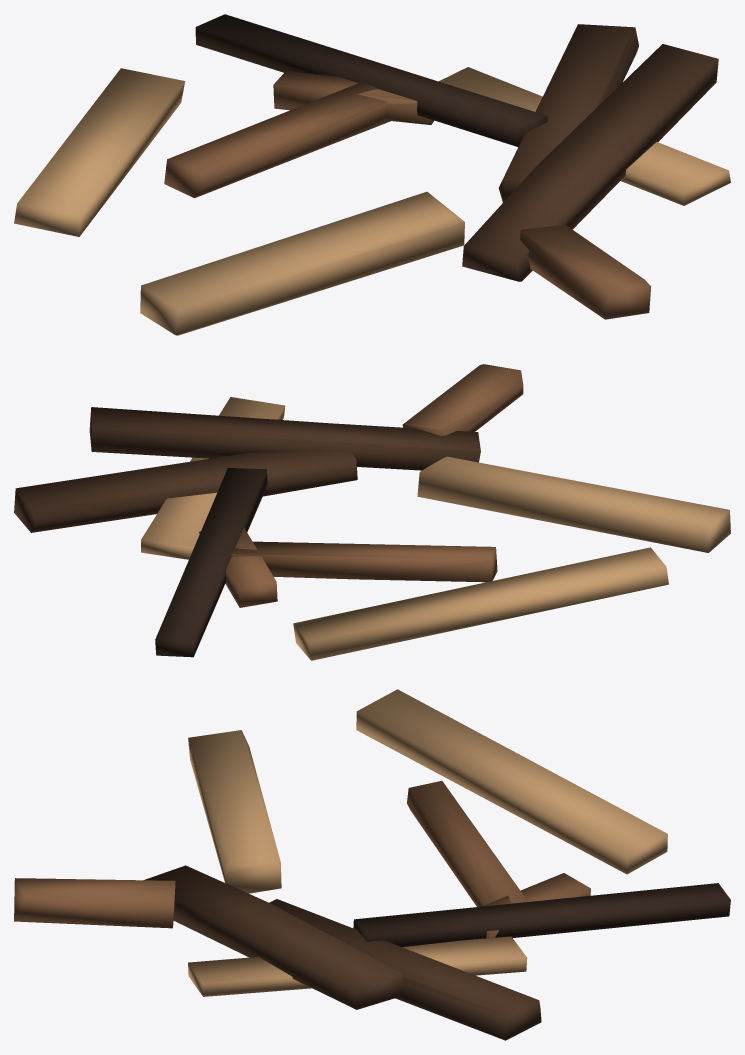
The model's file is ember_gc_wood_chips_b_lod2.glb.
3 renders of one model, top to bottom at view 1: azimuth 30°, elevation 25°; view 2: azimuth 150°, elevation 25°; view 3: azimuth 270°, elevation 25°, orthographic. The views are drawn at different scales.
Parts seen in each view (by area): view 1: ember_gc_wood_chips_b.001; view 2: ember_gc_wood_chips_b.001; view 3: ember_gc_wood_chips_b.001.
Part boxes in pixels (bbox=[...]): ember_gc_wood_chips_b.001: bbox=[14, 14, 730, 335]; ember_gc_wood_chips_b.001: bbox=[14, 364, 730, 660]; ember_gc_wood_chips_b.001: bbox=[14, 689, 730, 1040].
Bounding box in the file's own units: 4.85 × 0.4476 × 4.92.
